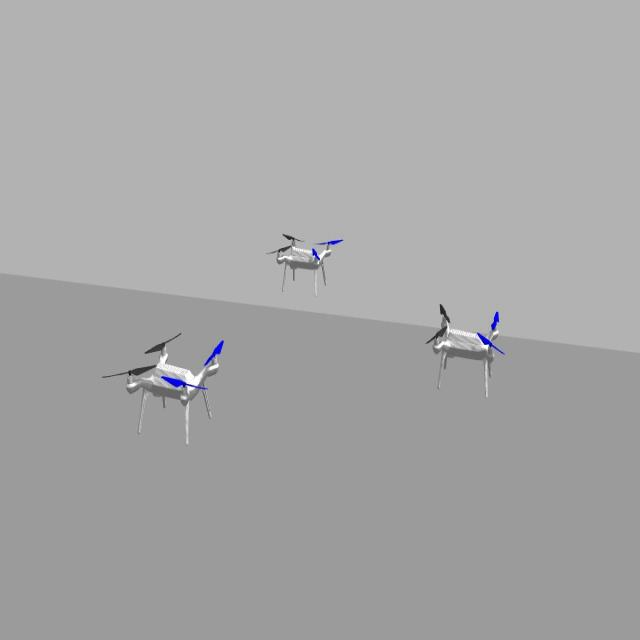Drone: (268, 219, 348, 298)
